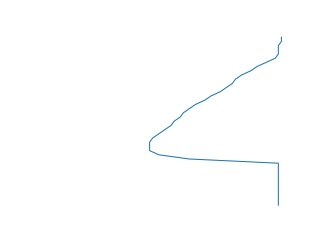meanderPointBar: (142, 39, 287, 205)
